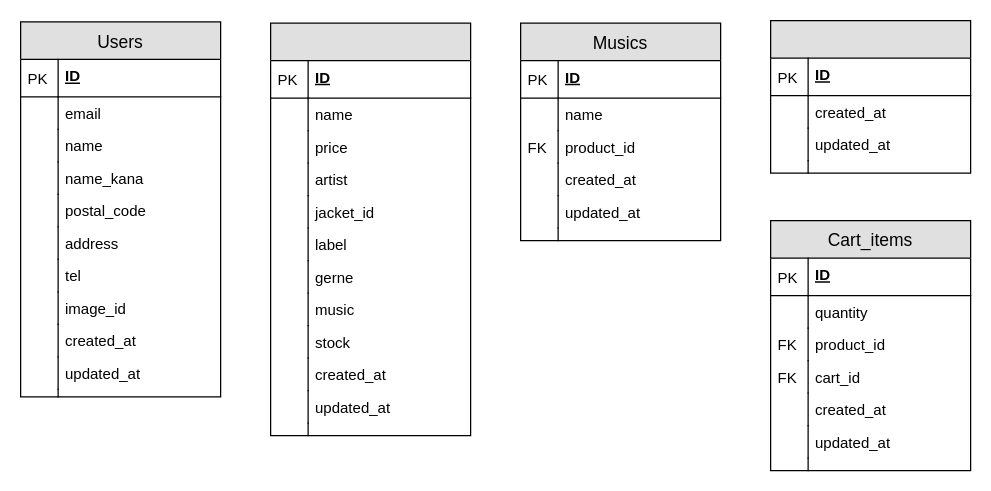
The diagram is 991 pixels wide and 491 high, and some of its shapes have lost their labels. Each missing label, with the box of its shape:
Carts: (769, 19, 971, 173)
Products: (269, 22, 471, 436)
